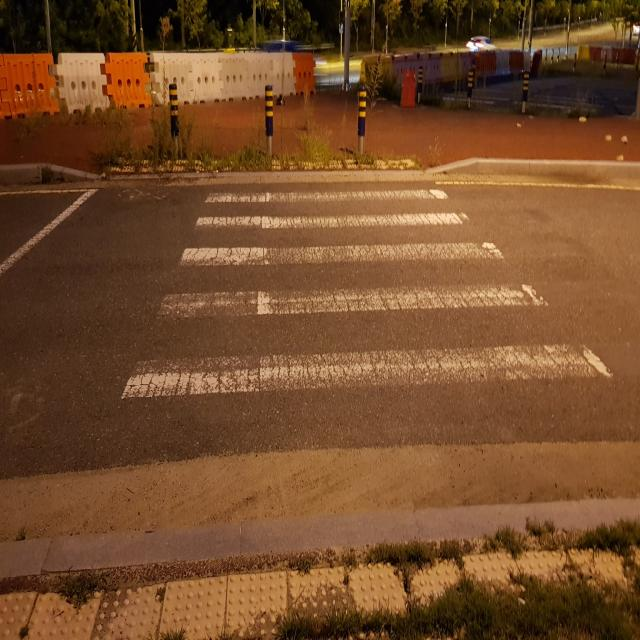횡단보도: (119, 185, 615, 403)
